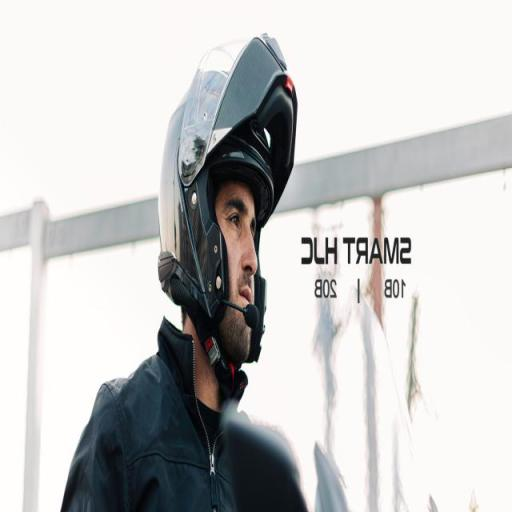Helmet: (159, 35, 296, 343)
